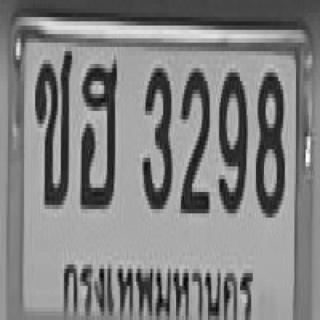A10: (33, 47, 71, 205)
A44: (78, 56, 117, 205)
N02: (179, 64, 208, 209)
N03: (141, 64, 171, 209)
N08: (254, 68, 283, 213)
N09: (218, 68, 246, 209)
P04: (59, 240, 255, 320)
